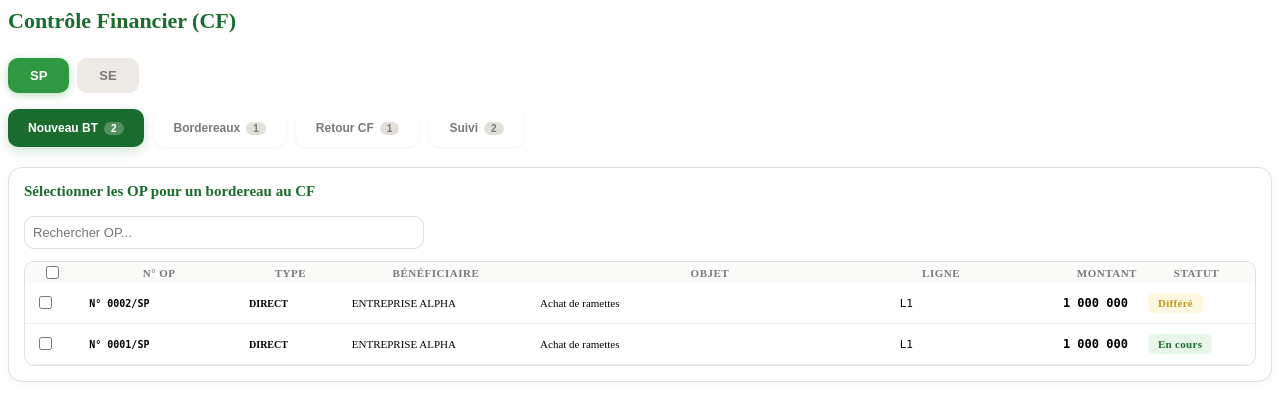
Test: Circuit CF — transmettre un bordereau › un bordereau dont les OP ont avancé est signalé verrouillé
The width and height of the screenshot is (1280, 413).
Click the button "Bordereaux 1": {"x": 220, "y": 128} [154,109,286,147]
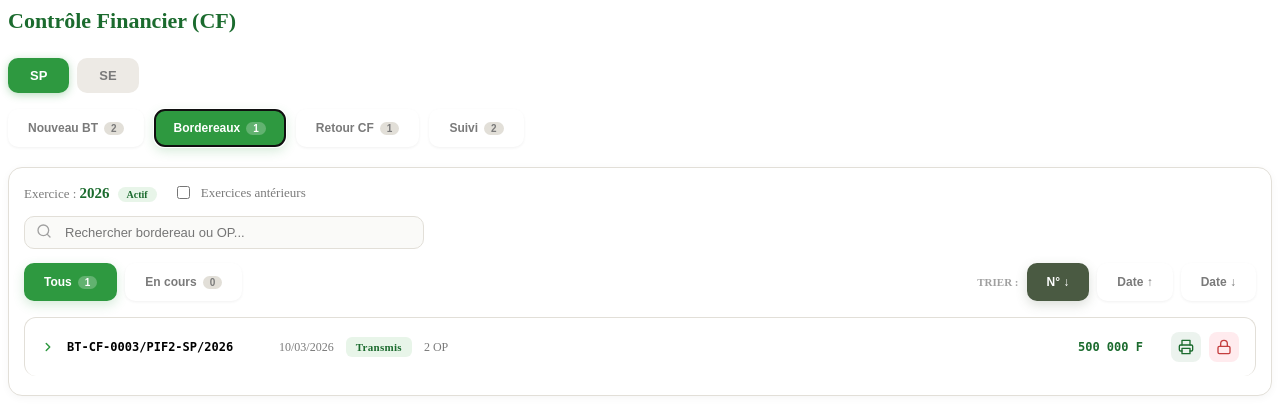
Now the button titled "Verrouillé" is shown, box [1209,332,1239,362]
